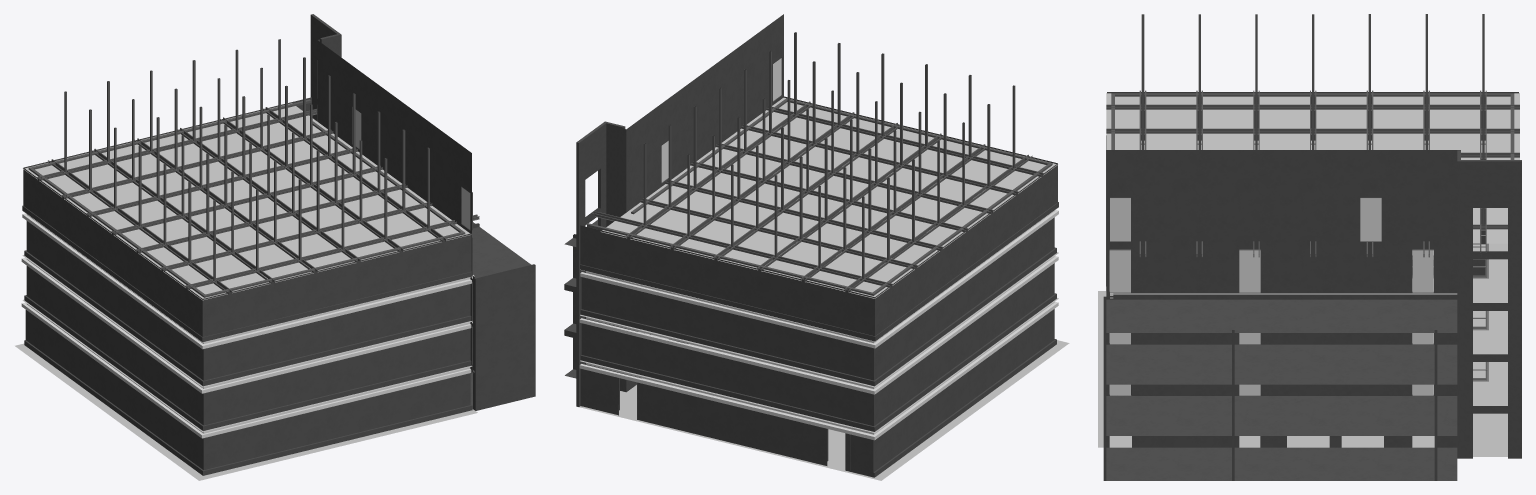
3 views of the same model, side by side, from view 1: azimuth 30°, elevation 25°; view 2: azimuth 150°, elevation 25°; view 3: azimuth 270°, elevation 25° (orthographic). The views are drawn at different scales.
Visible parts, largest first — view 1: level_walls, CeilingTiles, upperBeams, controlWalls, controlRoom_Walls, thickerBeam_underWalkWay, level_walls1, Ground_Obj, smallerBeam_underWalkWay, gridFloors, cornerWalls; view 2: level_walls, CeilingTiles, upperBeams, controlWalls, thickerBeam_underWalkWay, level_walls1, cornerWalls, Ground_Obj, smallerBeam_underWalkWay, gridFloors, controlRoom_Walls; view 3: controlWalls, controlRoom_Walls, CeilingTiles, upperBeams, cornerWalls, Ground_Obj, gridFloors, level_walls, Door22_Obj, Door19_Obj, Door18_Obj, Door23_Obj (+2 smaller).
Boxes of the visible parts, <box> form: level_walls: <box>22,97,472,475</box>; CeilingTiles: <box>22,103,471,300</box>; upperBeams: <box>28,39,479,297</box>; controlWalls: <box>317,39,474,409</box>; controlRoom_Walls: <box>470,222,535,410</box>; thickerBeam_underWalkWay: <box>21,213,471,438</box>; level_walls1: <box>26,262,253,469</box>; Ground_Obj: <box>15,343,477,480</box>; smallerBeam_underWalkWay: <box>26,214,474,433</box>; gridFloors: <box>22,141,472,432</box>; cornerWalls: <box>310,14,341,120</box>; level_walls: <box>580,96,1058,477</box>; CeilingTiles: <box>600,97,1058,298</box>; upperBeams: <box>587,32,1052,295</box>; controlWalls: <box>623,14,783,392</box>; thickerBeam_underWalkWay: <box>579,210,1058,440</box>; level_walls1: <box>619,309,1054,476</box>; cornerWalls: <box>576,121,625,406</box>; Ground_Obj: <box>579,340,1069,480</box>; smallerBeam_underWalkWay: <box>586,211,1054,434</box>; gridFloors: <box>580,147,1058,432</box>; controlRoom_Walls: <box>564,220,688,378</box>; controlWalls: <box>1106,150,1460,447</box>; controlRoom_Walls: <box>1103,296,1457,480</box>; CeilingTiles: <box>1106,93,1519,243</box>; upperBeams: <box>1106,14,1519,257</box>; cornerWalls: <box>1457,150,1521,458</box>; Ground_Obj: <box>1098,291,1507,456</box>; gridFloors: <box>1106,140,1507,405</box>; level_walls: <box>1106,92,1518,286</box>; Door22_Obj: <box>1360,198,1381,241</box>; Door19_Obj: <box>1239,250,1260,292</box>; Door18_Obj: <box>1412,250,1433,292</box>; Door23_Obj: <box>1110,198,1130,241</box>.
Bounding box in the file's own units: 1925 × 1410 × 1816.
